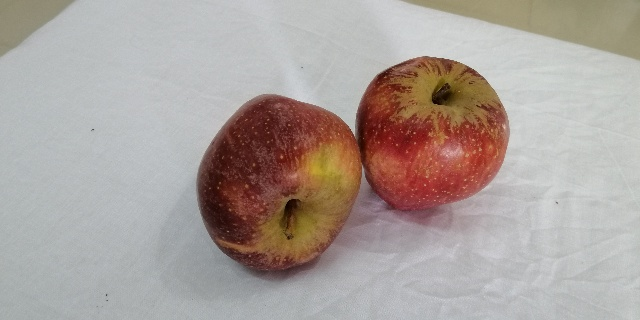apple_kashmir: (197, 94, 362, 273), (356, 55, 508, 211)
